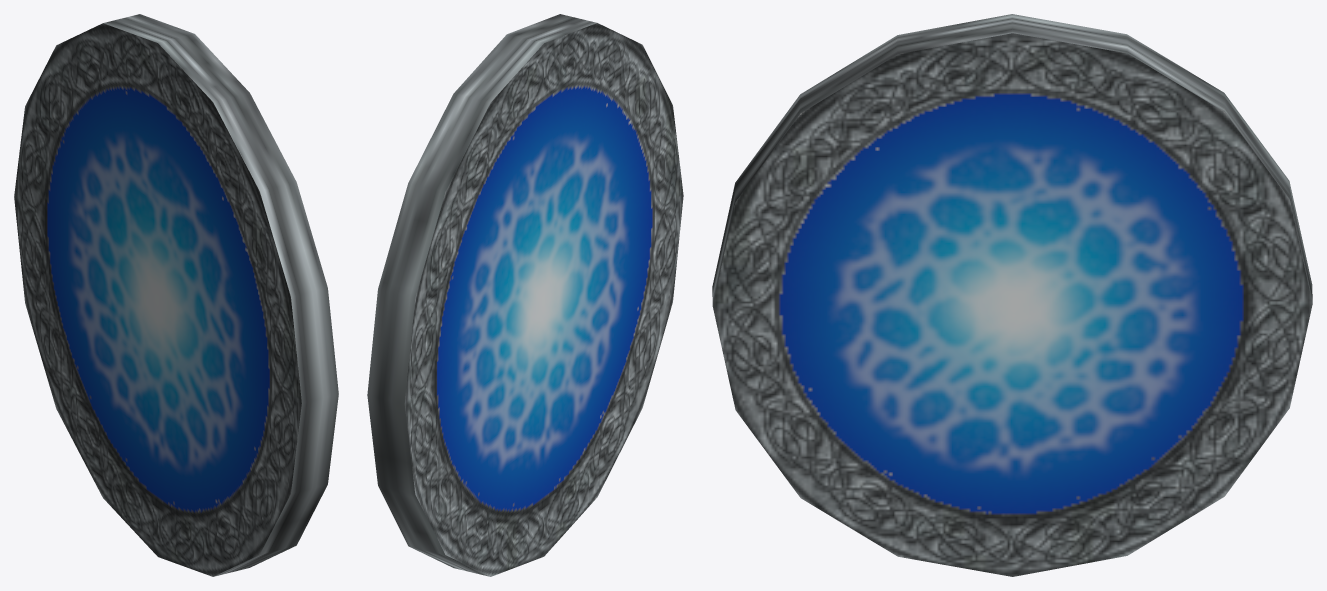
The model's file is well.obj.
3 renders of one model, left to right at view 1: azimuth 30°, elevation 25°; view 2: azimuth 150°, elevation 25°; view 3: azimuth 270°, elevation 25°, orthographic. The views are drawn at different scales.
Visible parts, largest first — view 1: Cylinder; view 2: Cylinder; view 3: Cylinder.
Boxes of the visible parts, left/top/right/bottom form: Cylinder: left=14, top=14, right=338, bottom=576; Cylinder: left=367, top=14, right=683, bottom=576; Cylinder: left=712, top=14, right=1312, bottom=576.
Size of the model in its own units: 3.35 by 39.65 by 39.68.
